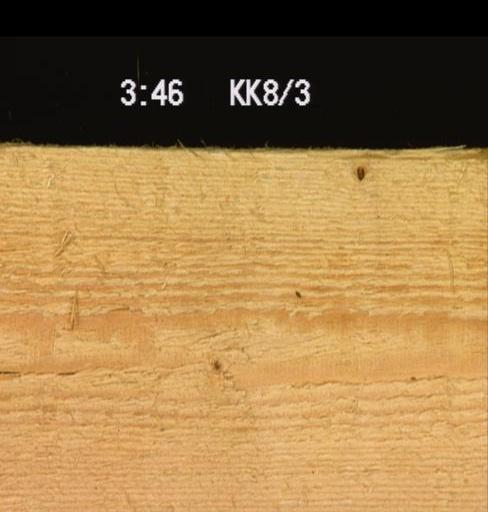dry_knot: (350, 163, 369, 182)
small_knot: (204, 357, 223, 373)
split: (0, 366, 77, 376)
wave: (181, 142, 486, 156)
